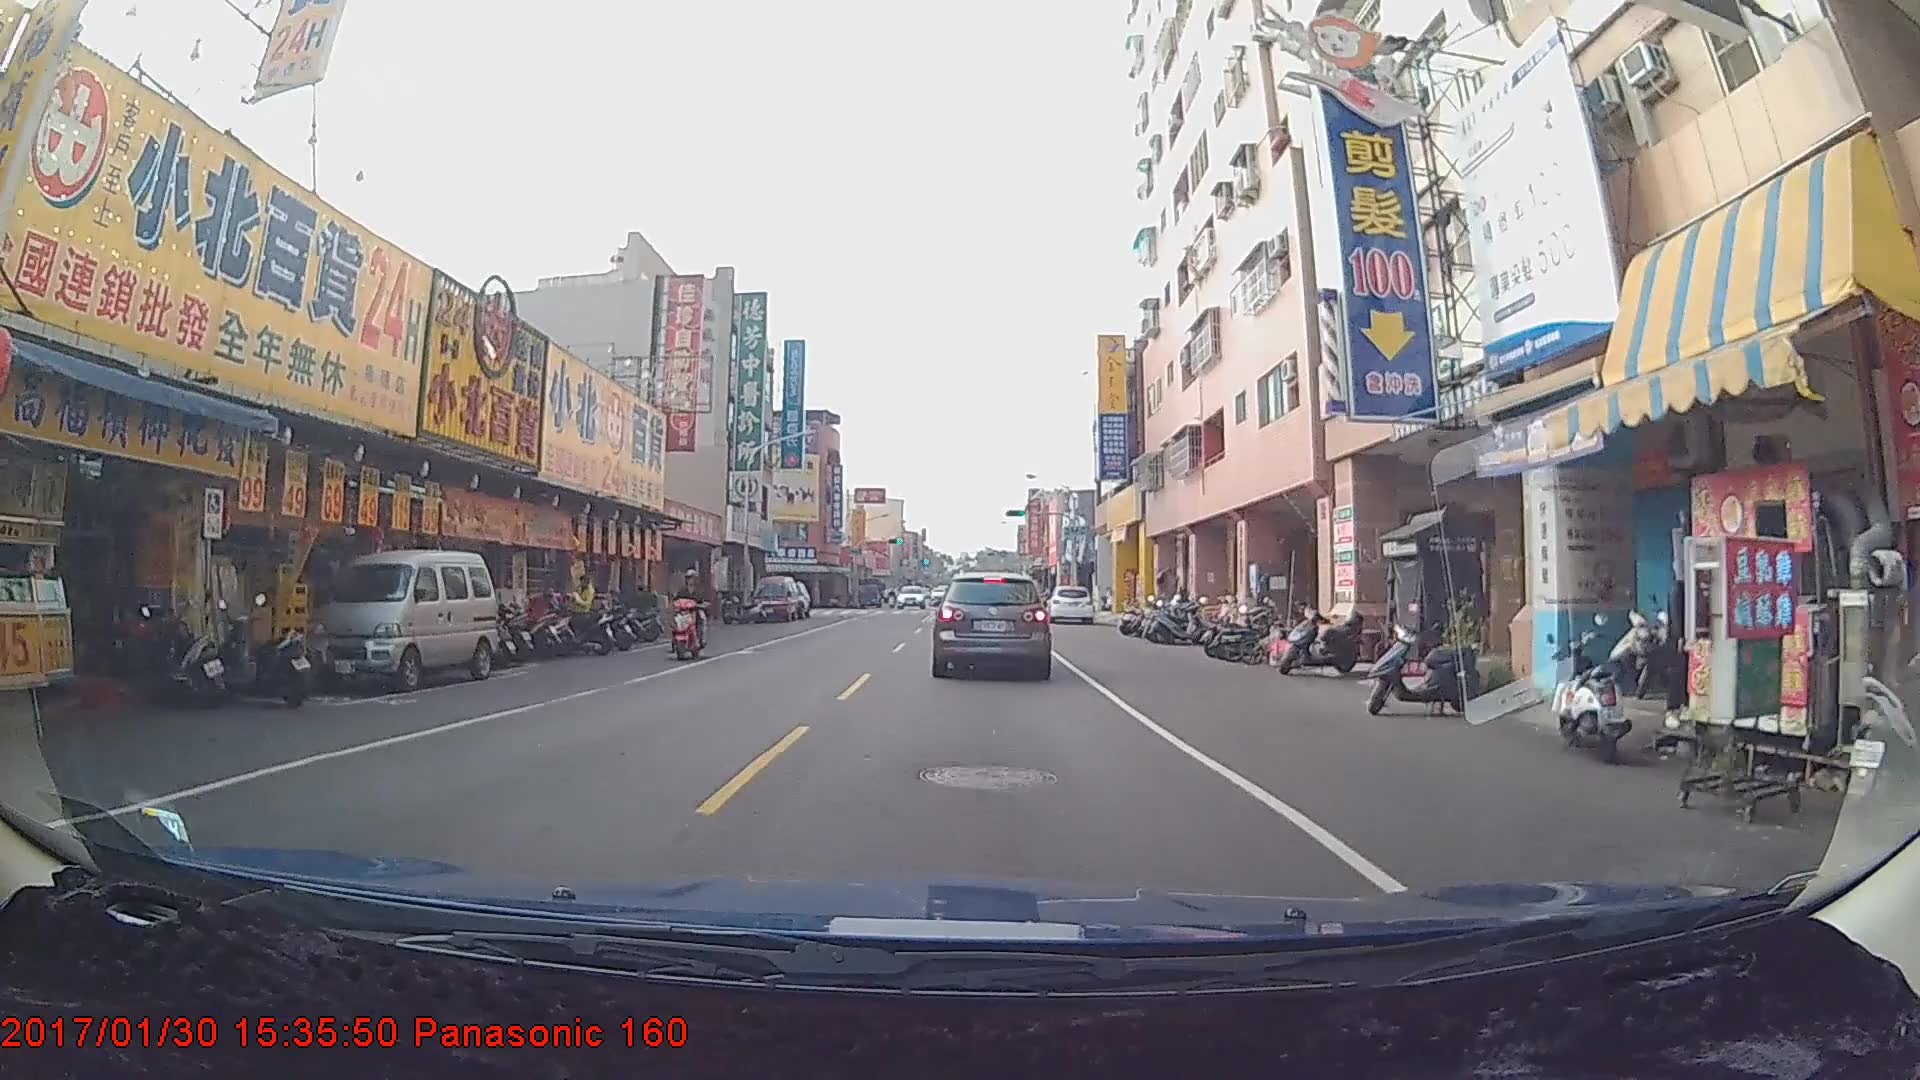pedestrian: (562, 566, 595, 646)
rider: (664, 565, 714, 660)
vehicle: (313, 552, 497, 687), (935, 572, 1048, 677), (748, 575, 799, 621), (1042, 585, 1093, 625), (894, 580, 924, 603)
